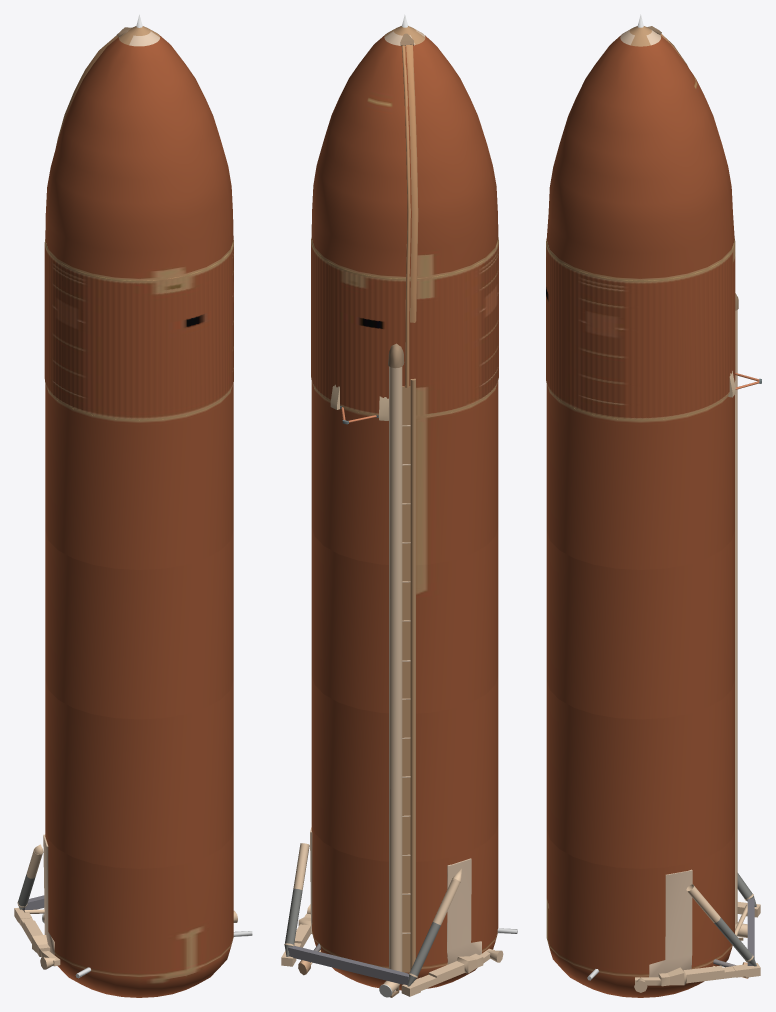
Rendered from space-shuttle-stack-external-tank.glb.
The picture shows the model from 3 angles, left to right: view 1: azimuth 30°, elevation 25°; view 2: azimuth 150°, elevation 25°; view 3: azimuth 270°, elevation 25°; orthographic projection.
Parts seen in each view (by area): view 1: external-tank; view 2: external-tank; view 3: external-tank.
Boxes of the visible parts, x1,y1,x2,y2 form: external-tank: (14, 14, 252, 997); external-tank: (281, 14, 517, 997); external-tank: (546, 14, 761, 997).
Size of the model in its own units: 9.68 by 46.88 by 9.47.
1 material, 1 textured.
